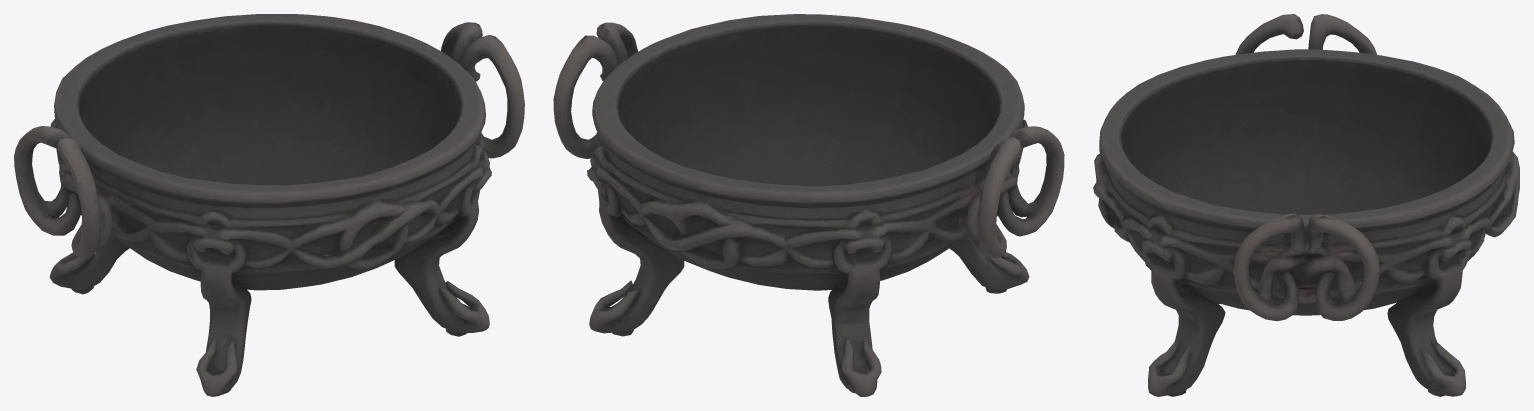
The model's file is brazier.opt.glb.
3 views of the same model, side by side, from view 1: azimuth 30°, elevation 25°; view 2: azimuth 150°, elevation 25°; view 3: azimuth 270°, elevation 25° (orthographic). The views are drawn at different scales.
Size of the model in its own units: 1.91 by 0.9431 by 1.64.
1 material, 1 textured.
